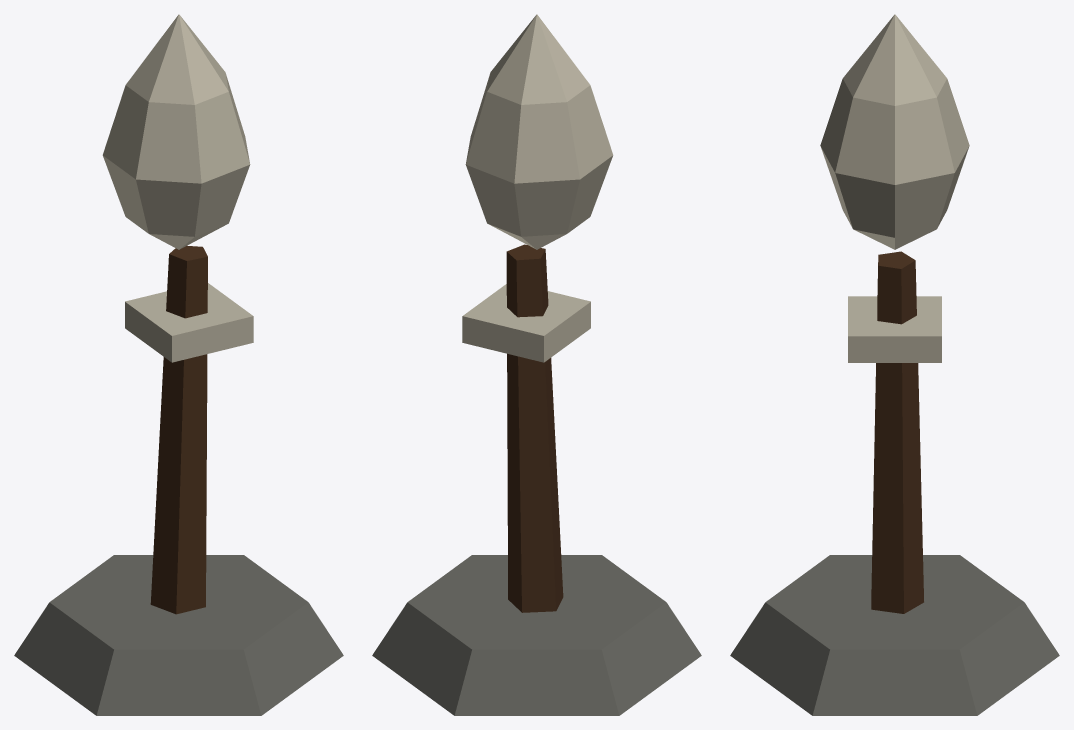
File: prop_soulpath_lamp_off.glb
3 views of the same model, side by side, from view 1: azimuth 30°, elevation 25°; view 2: azimuth 150°, elevation 25°; view 3: azimuth 270°, elevation 25° (orthographic).
Parts seen in each view (by area): view 1: prop_soulpath_lamp_off; view 2: prop_soulpath_lamp_off; view 3: prop_soulpath_lamp_off.
Boxes of the visible parts, left/top/right/bottom form: prop_soulpath_lamp_off: left=14, top=14, right=343, bottom=715; prop_soulpath_lamp_off: left=372, top=14, right=701, bottom=715; prop_soulpath_lamp_off: left=730, top=14, right=1059, bottom=715.
Bounding box in the file's own units: 0.485 × 1.2 × 0.56.
